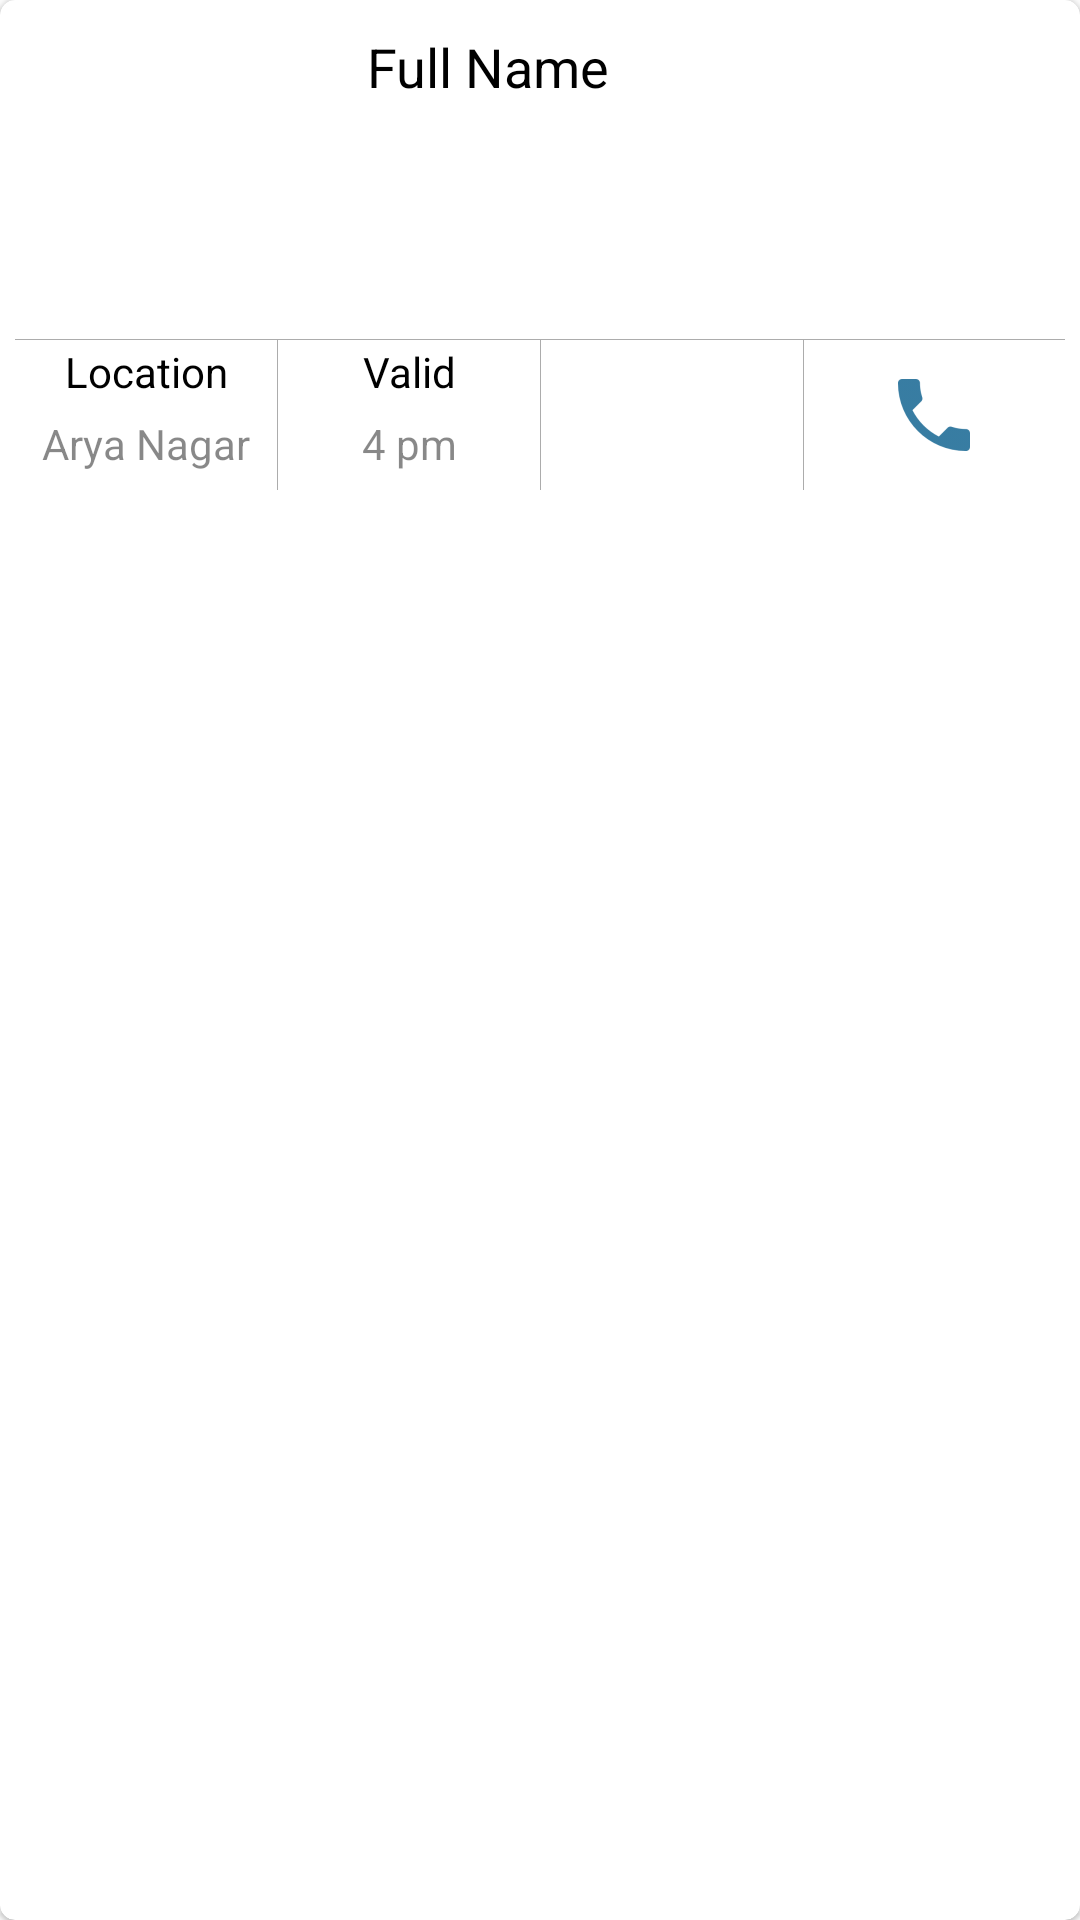

Where icons sit on this 1080*1920 app screen, as box=[x1, y1, x2, y2]:
call: box=[898, 379, 970, 451]
